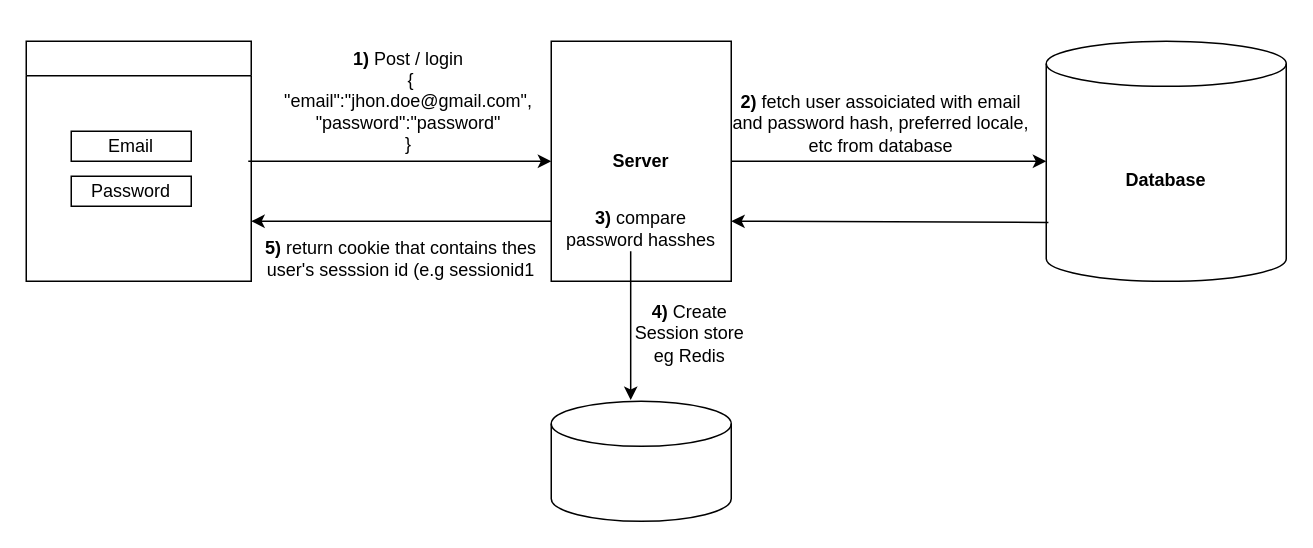
Image size: 1313x548. Some labels were removed from this diagram. The box of each missing label's shape, as (x1, y1, x2, y2) in pixels:
Client: (25, 40, 251, 281)
Redis: (550, 400, 731, 521)
